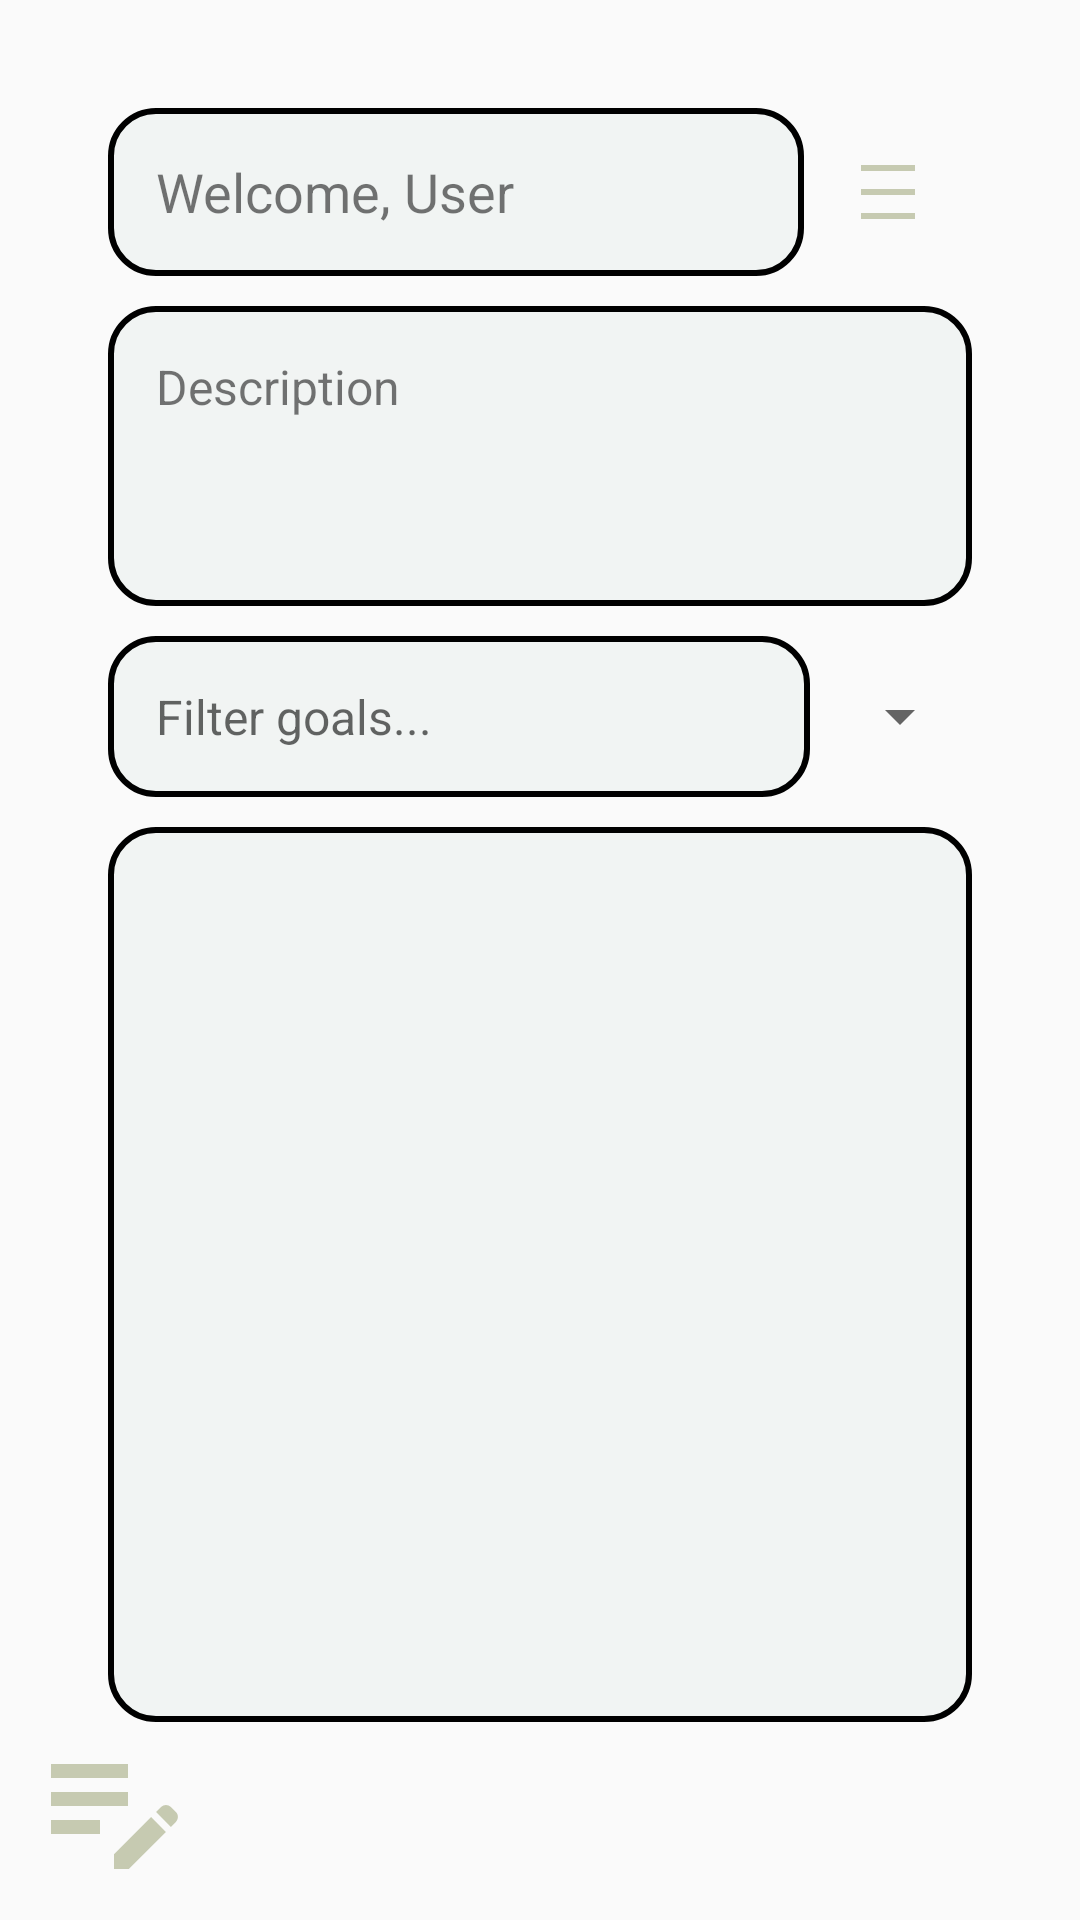

Icons on this 1080 × 1920 Android screen, each with its box as (x1, y1, x2, y2):
density medium: (861, 165, 915, 219)
edit note: (51, 1764, 178, 1869)
